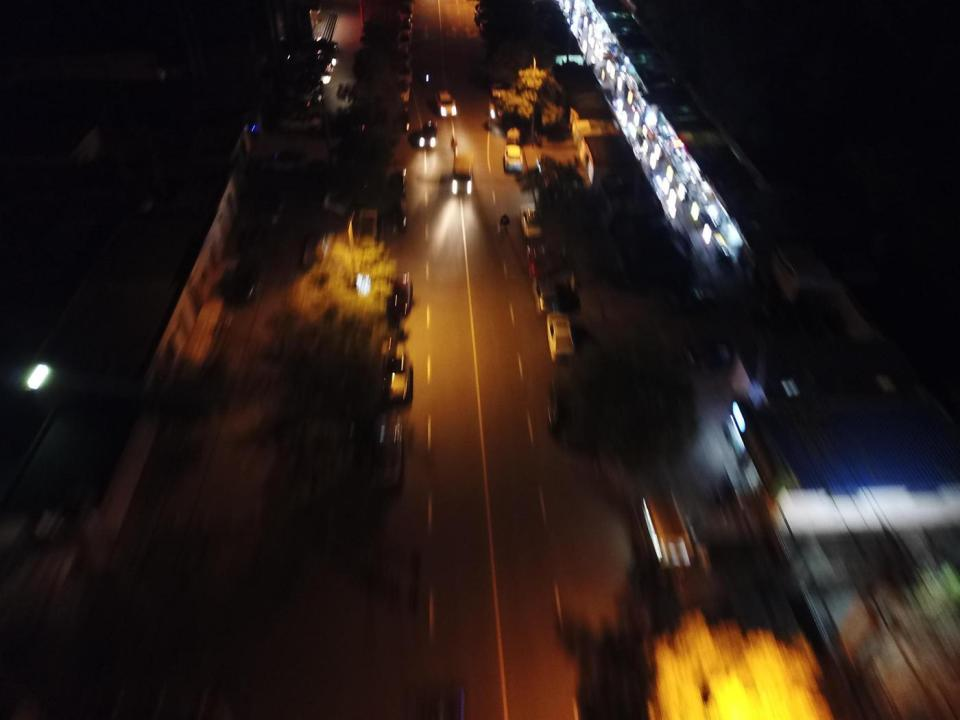car: (370, 413, 402, 486), (379, 170, 408, 235), (383, 279, 412, 342), (225, 255, 257, 305), (549, 382, 578, 437), (382, 347, 410, 401), (547, 311, 576, 363), (491, 95, 536, 122), (255, 183, 282, 224), (322, 190, 364, 216), (526, 243, 556, 277), (532, 277, 560, 312), (279, 111, 322, 132), (475, 3, 514, 26), (264, 150, 304, 172), (521, 202, 543, 240), (480, 20, 517, 38), (434, 89, 456, 118), (504, 144, 522, 173), (419, 120, 437, 147), (392, 106, 410, 131), (294, 91, 321, 106), (395, 61, 413, 83), (306, 71, 331, 85), (314, 52, 337, 67), (309, 60, 333, 73), (294, 82, 322, 93), (398, 1, 413, 20), (396, 82, 410, 102), (397, 30, 411, 49), (317, 39, 337, 51), (397, 47, 410, 64), (399, 18, 412, 34)
van: (451, 152, 474, 194)
